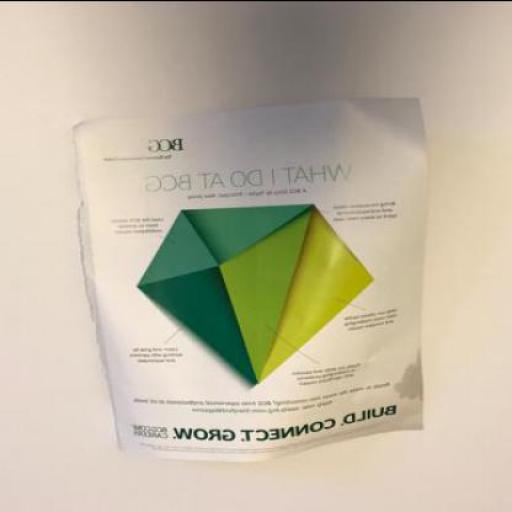paper: (74, 96, 426, 460)
